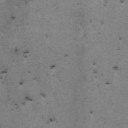oxide scale of temperature system: (0, 46, 56, 106), (93, 36, 122, 85), (90, 18, 105, 24), (48, 117, 56, 122), (10, 14, 16, 20), (119, 0, 126, 4), (88, 110, 94, 114), (44, 34, 48, 39), (64, 53, 68, 57)
